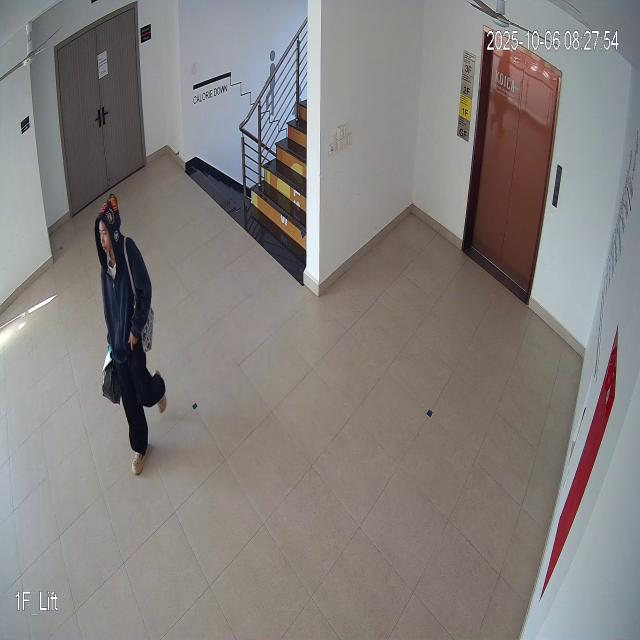face: (94, 191, 124, 265)
